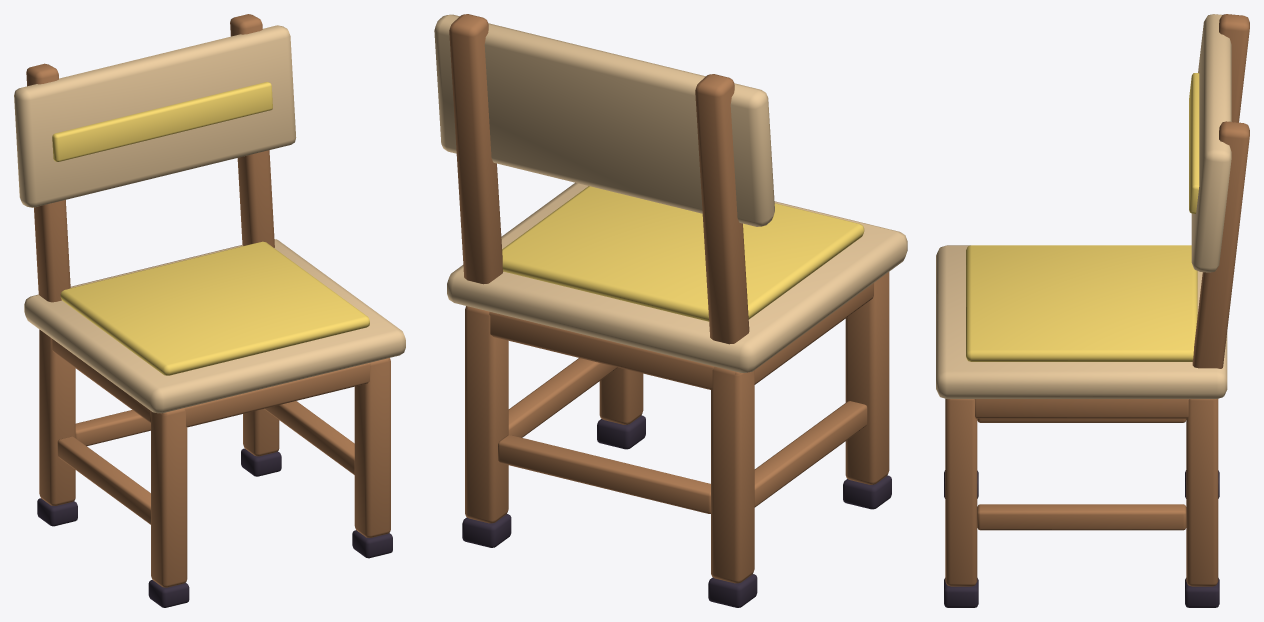
The model's file is student-chair.glb.
3 renders of one model, left to right at view 1: azimuth 30°, elevation 25°; view 2: azimuth 150°, elevation 25°; view 3: azimuth 270°, elevation 25°, orthographic. The views are drawn at different scales.
Visible parts, largest first — view 1: FurnStudentChair_SeatBack, FurnStudentChair_Frame, FurnStudentChair_Accent, FurnStudentChair_Glides; view 2: FurnStudentChair_Frame, FurnStudentChair_SeatBack, FurnStudentChair_Accent, FurnStudentChair_Glides; view 3: FurnStudentChair_Frame, FurnStudentChair_Accent, FurnStudentChair_SeatBack, FurnStudentChair_Glides.
Boxes of the visible parts, bbox=[...] form: FurnStudentChair_SeatBack: bbox=[14, 25, 405, 413]; FurnStudentChair_Frame: bbox=[26, 14, 390, 587]; FurnStudentChair_Accent: bbox=[52, 82, 369, 375]; FurnStudentChair_Glides: bbox=[37, 448, 392, 607]; FurnStudentChair_Frame: bbox=[449, 14, 889, 583]; FurnStudentChair_SeatBack: bbox=[434, 14, 907, 372]; FurnStudentChair_Accent: bbox=[502, 186, 864, 321]; FurnStudentChair_Glides: bbox=[462, 415, 891, 607]; FurnStudentChair_Frame: bbox=[945, 14, 1249, 586]; FurnStudentChair_Accent: bbox=[966, 73, 1199, 361]; FurnStudentChair_SeatBack: bbox=[936, 14, 1231, 398]; FurnStudentChair_Glides: bbox=[944, 470, 1219, 607].
Bounding box in the file's own units: 0.51 × 0.7952 × 0.4738.
